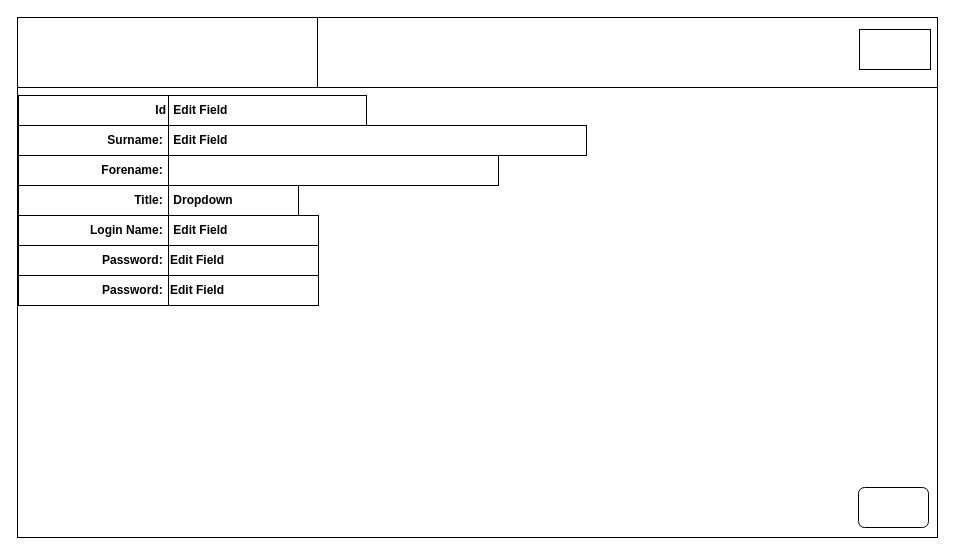
This 955x555 diagram has some shape labels left out. Each missing label, with the centre of its shape:
"Drop Down" belongs at (x=333, y=170).
"FUND BROKER: USER DETAILS" belongs at (x=167, y=52).
"LOGIN" belongs at (x=894, y=49).
"Save" belongs at (x=893, y=507).
